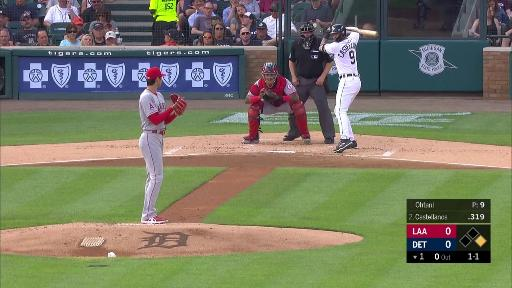pitcher: (140, 67, 187, 223)
